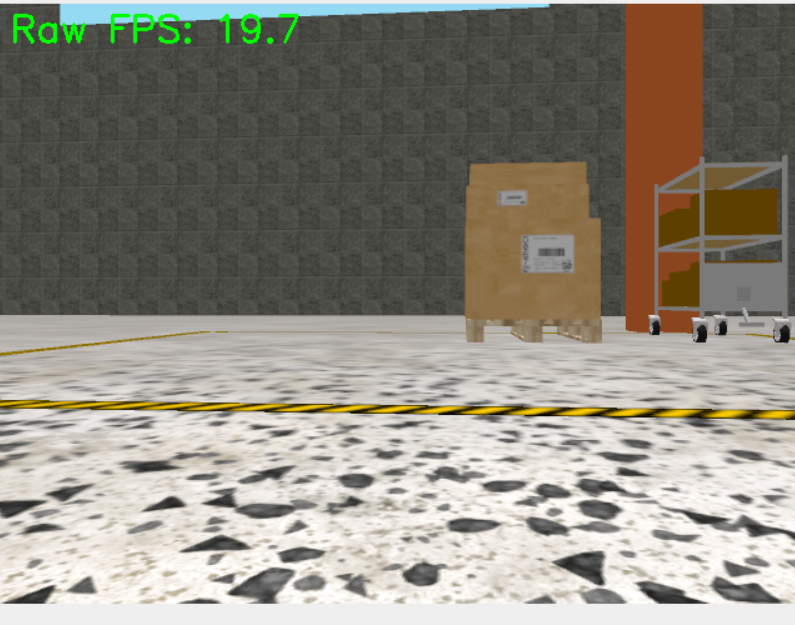barcode: (521, 234, 574, 275), (500, 191, 529, 207)
